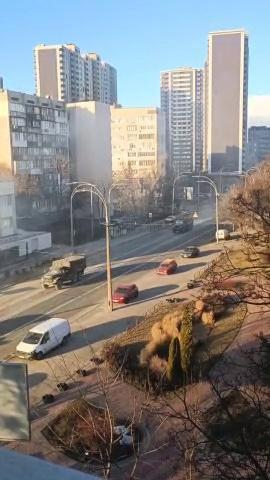car: (10, 318, 78, 360), (110, 284, 138, 304), (156, 259, 177, 276), (181, 246, 199, 258)
truck: (42, 254, 86, 290), (172, 218, 193, 234)
